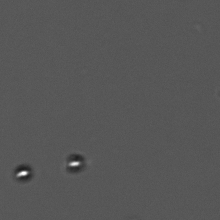Living Cell: (63, 154, 85, 174), (13, 164, 32, 181)
